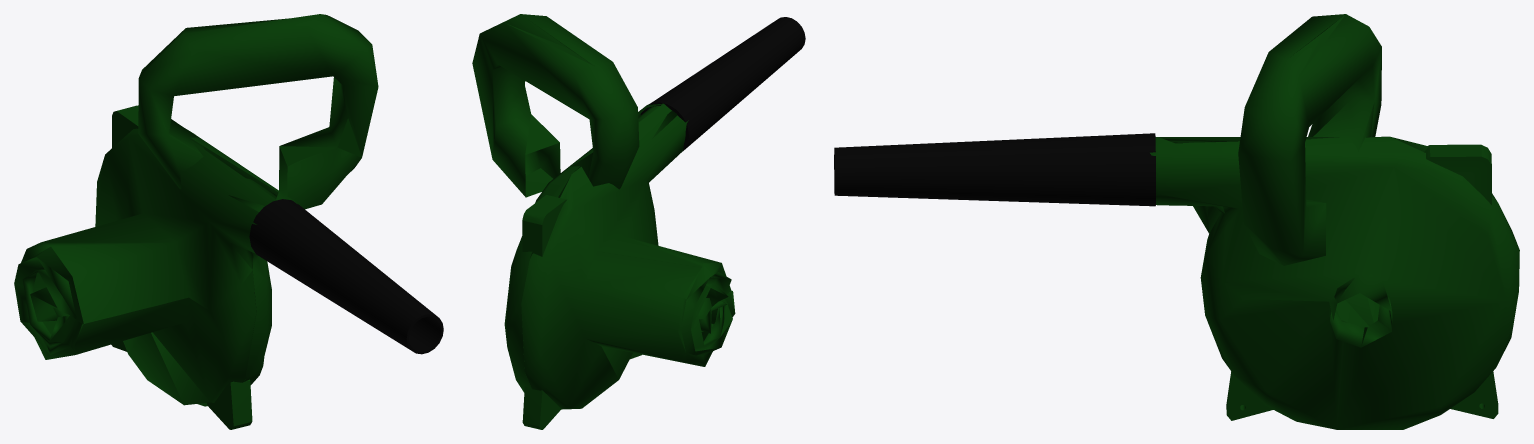
The model's file is blower 1.FBX.
The picture shows the model from 3 angles, left to right: view 1: azimuth 30°, elevation 25°; view 2: azimuth 150°, elevation 25°; view 3: azimuth 270°, elevation 25°; orthographic projection. The views are drawn at different scales.
Parts seen in each view (by area): view 1: Plane04, e, Tube01, Plane11, Box15, Box14; view 2: Plane04, e, Tube01, Plane11, Box14, Box16; view 3: Plane11, e, Tube01, Box14, Plane04, Box15, Box16.
Boxes of the visible parts, <box> form: Plane04: <box>14,128,276,405</box>; e: <box>138,14,378,209</box>; Tube01: <box>249,199,443,354</box>; Plane11: <box>186,129,296,406</box>; Box15: <box>207,379,252,429</box>; Box14: <box>112,105,138,147</box>; Plane04: <box>521,104,735,409</box>; e: <box>472,14,639,197</box>; Tube01: <box>640,17,805,150</box>; Plane11: <box>504,103,663,392</box>; Box14: <box>522,195,566,258</box>; Box16: <box>522,386,561,429</box>; Plane11: <box>1150,137,1519,429</box>; e: <box>1238,14,1381,265</box>; Tube01: <box>834,133,1155,206</box>; Box14: <box>1424,144,1491,204</box>; Plane04: <box>1157,136,1518,327</box>; Box15: <box>1226,371,1273,420</box>; Box16: <box>1450,371,1498,418</box>.
Size of the model in its own units: 84.31 by 102 by 149.
